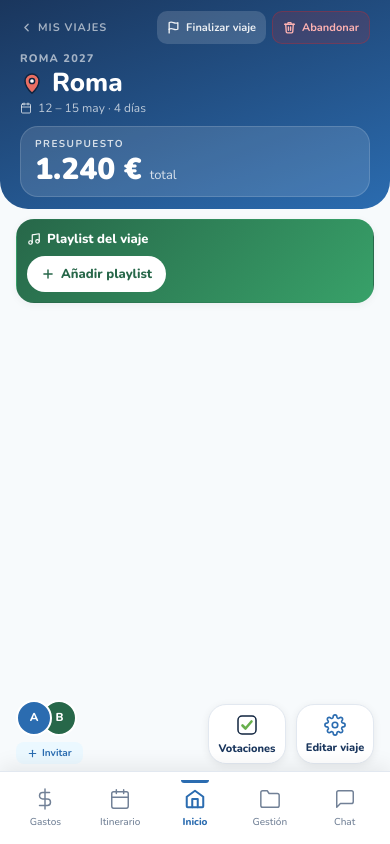
Test case: InicioViaje · abandonar el viaje › si el backend rechaza el abandono, el motivo sale en el diálogo y el viaje sigue
Click the button "Abandonar" at {"x": 321, "y": 28}, box [272,11,370,44]
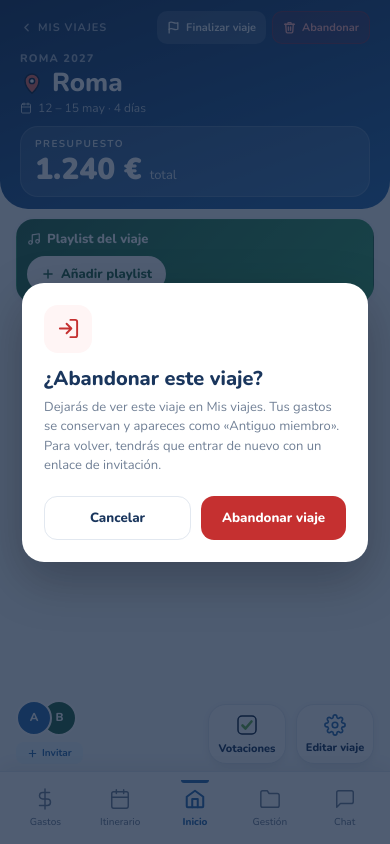
Click the button "Abandonar viaje" at {"x": 274, "y": 518}, box [201,496,346,540]
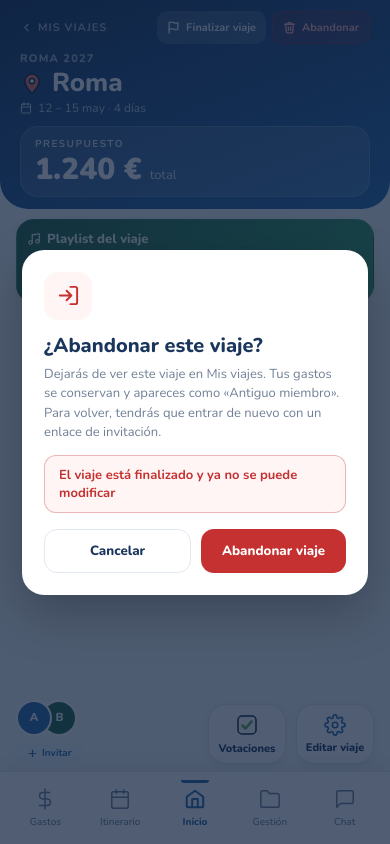
Check: the message reads "El viaje está finalizado y ya no se puede modificar", box [59,466,297,502]
